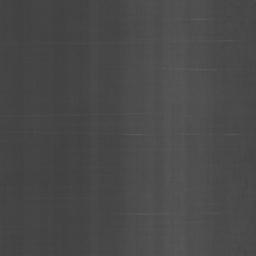Waist folding: (120, 211, 219, 217), (162, 66, 226, 73), (179, 132, 256, 137), (171, 39, 235, 44), (72, 40, 122, 46), (185, 16, 212, 22), (0, 114, 40, 118), (123, 132, 144, 137)
